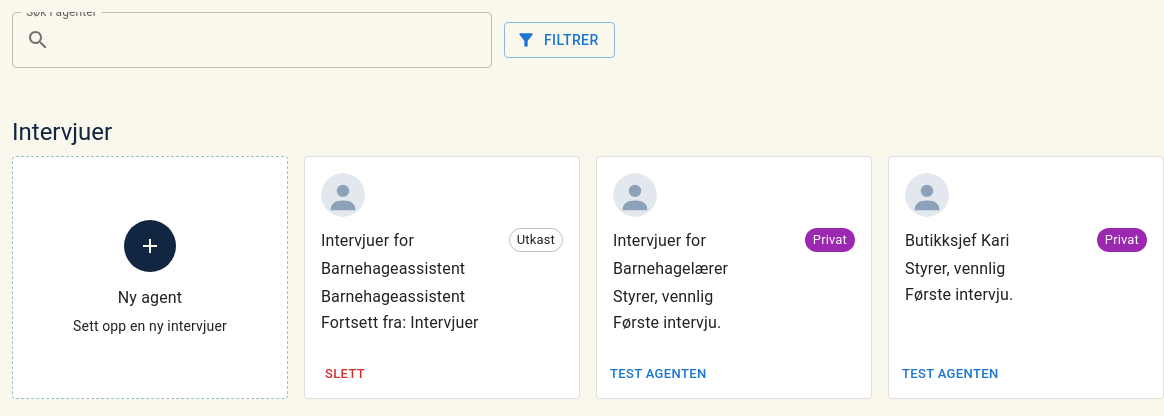
Scenario: AgentList › search › shows only the agents that match, without Ny agent and the utkast
The image size is (1164, 416).
Click the search field labelled "Søk i agenter": coordinates (275, 40) left=58, top=12, right=492, bottom=68
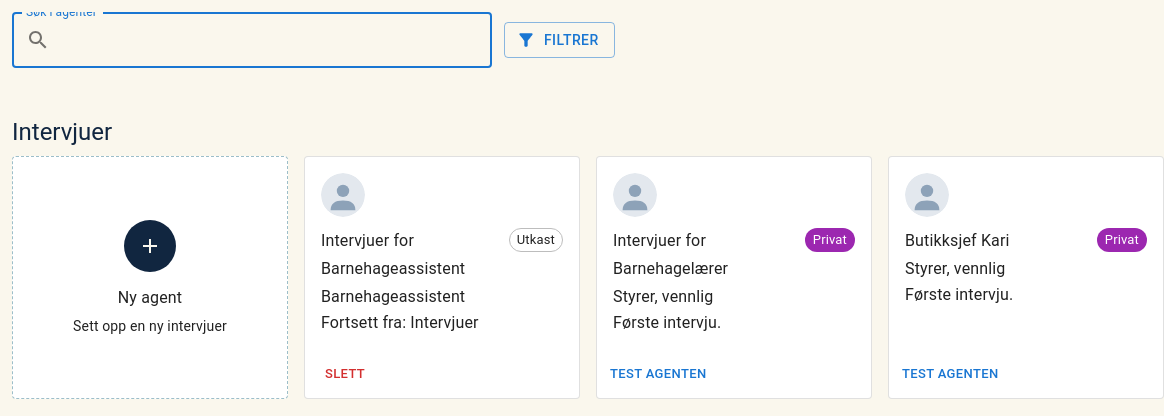
Type keys "butikk krevende"
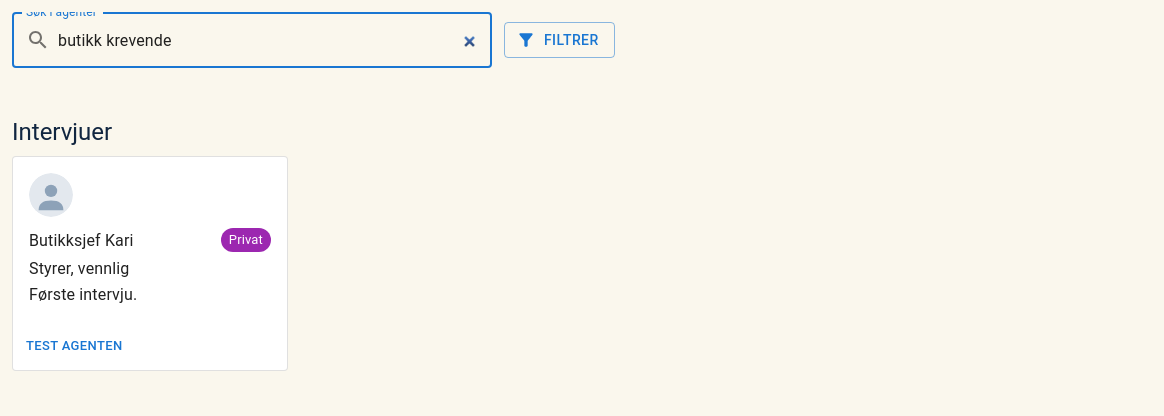
Expected: the button "Ny agent" is gone
Expected: the link "Utkast" is gone
